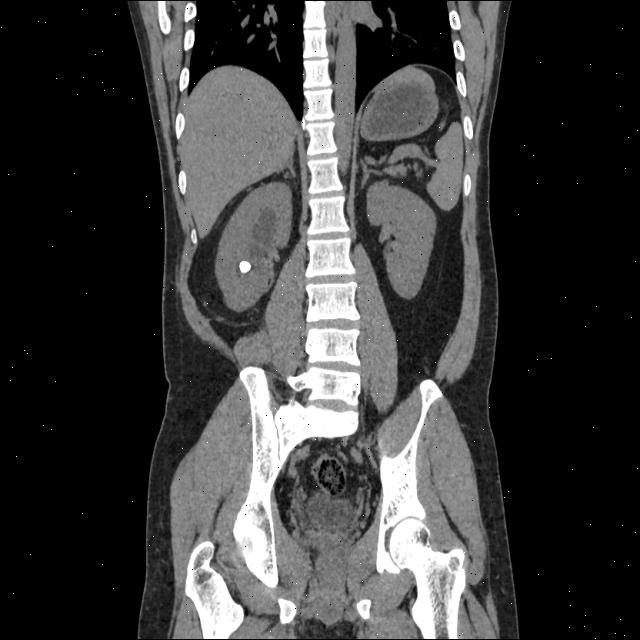kidneystone: (239, 261, 251, 275)
